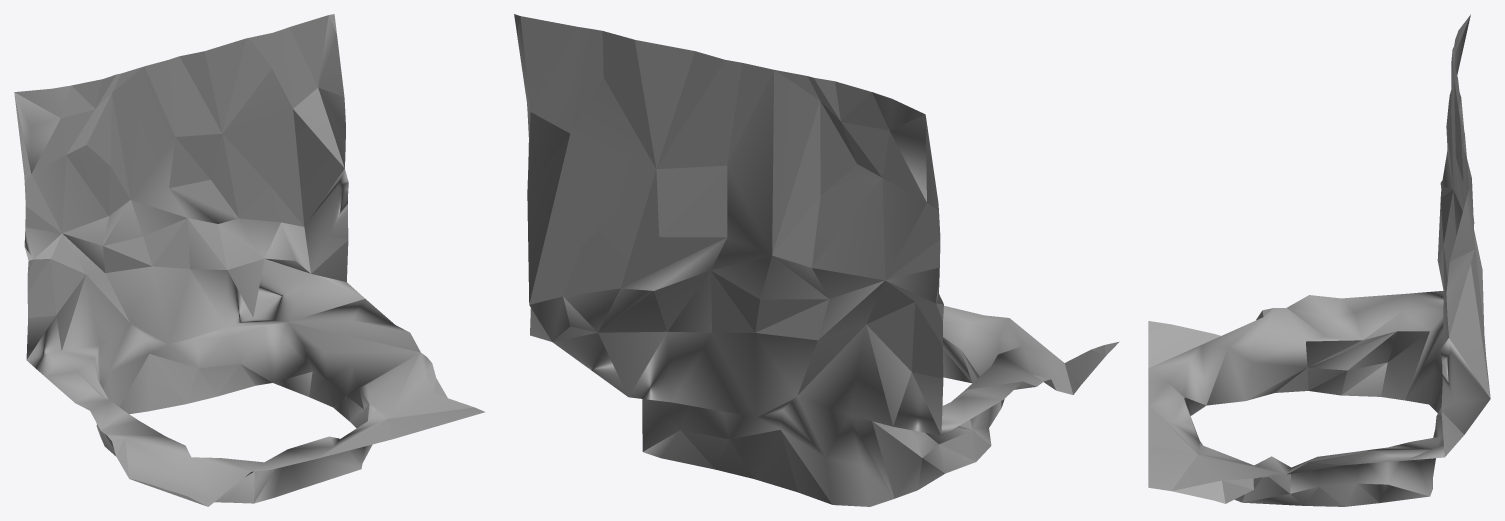
The model's file is WallFloorTunnelEntrance2.fbx.
The picture shows the model from 3 angles, left to right: view 1: azimuth 30°, elevation 25°; view 2: azimuth 150°, elevation 25°; view 3: azimuth 270°, elevation 25°; orthographic projection. The views are drawn at different scales.
Visible parts, largest first — view 1: WallFloorTunnelEntrance2; view 2: WallFloorTunnelEntrance2; view 3: WallFloorTunnelEntrance2.
Boxes of the visible parts, x1,y1,x2,y2 form: WallFloorTunnelEntrance2: [14, 14, 485, 506]; WallFloorTunnelEntrance2: [514, 14, 1119, 506]; WallFloorTunnelEntrance2: [1148, 14, 1490, 506].
Size of the model in its own units: 500 by 500 by 434.
